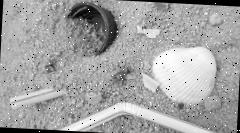general: (53, 96, 238, 133), (6, 85, 66, 112)
